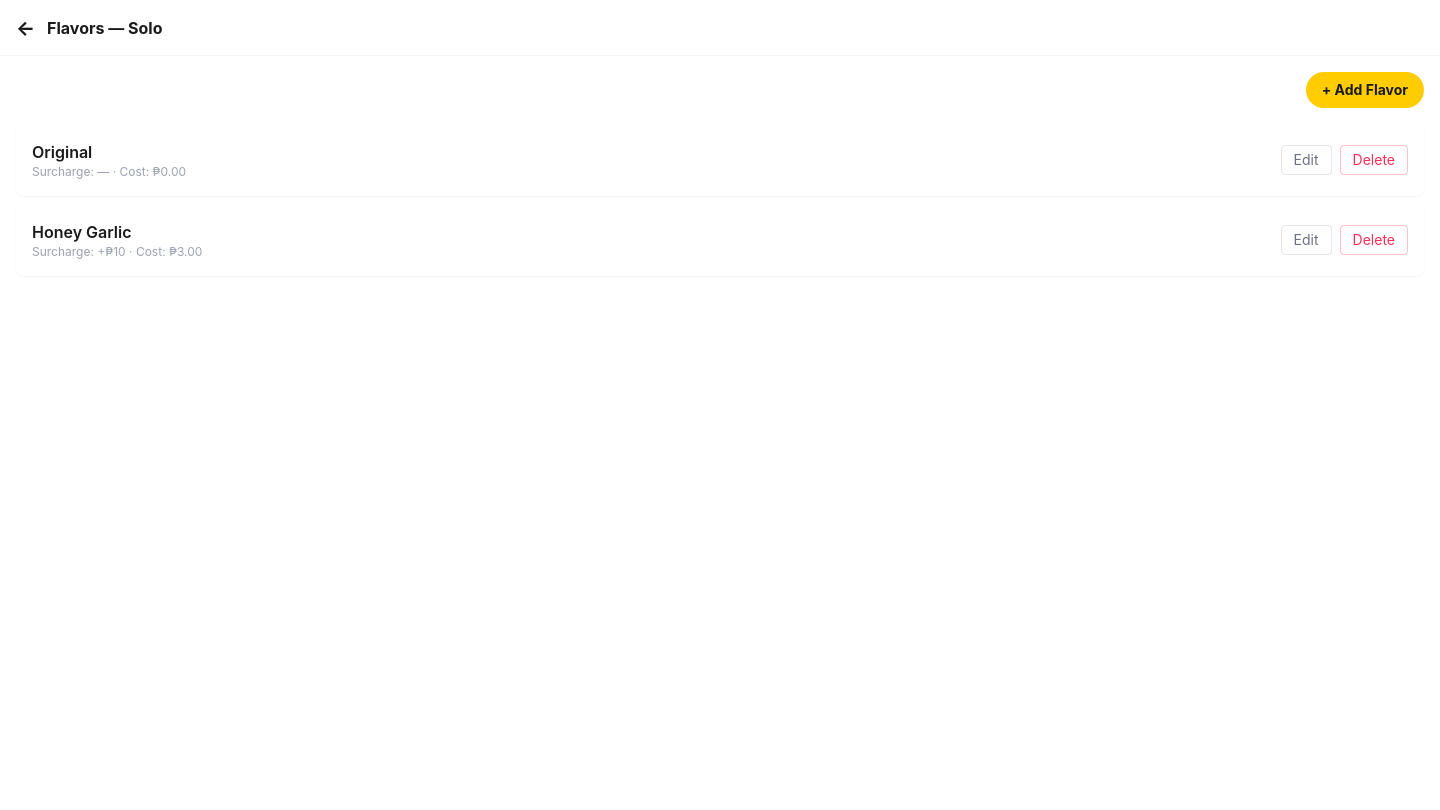
it: Flavors › opens new flavor form when Add Flavor clicked
The width and height of the screenshot is (1440, 810).
Expected: the text "Original" is shown, [32, 142, 92, 162]
Click the button "+ Add Flavor".
click(1365, 90)  # box [1306, 72, 1424, 108]
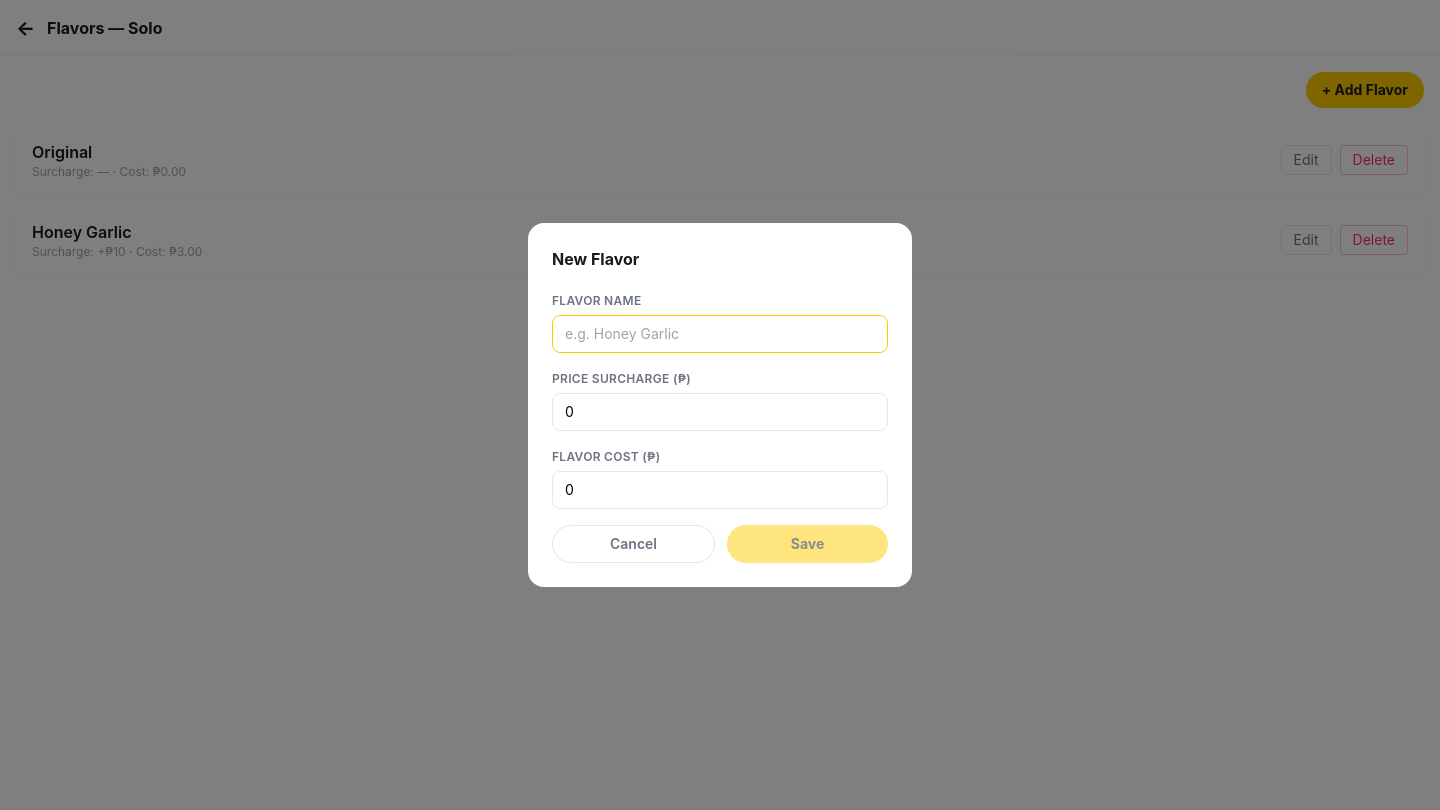
Now the heading "New Flavor" is shown, box [552, 249, 639, 269]
